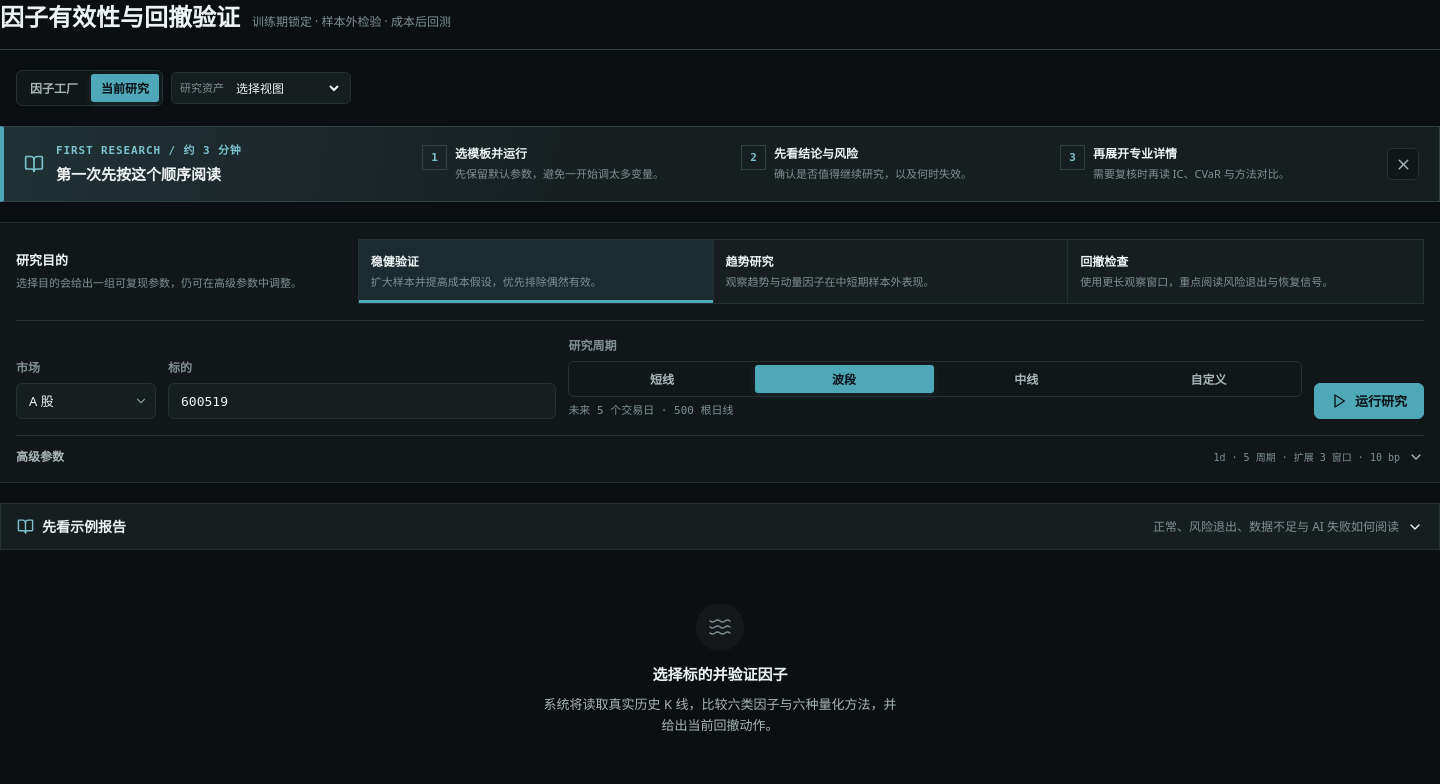
Test case: FactorResearchPage › blocks strategy experiments when no factor passes the statistical gate
The width and height of the screenshot is (1440, 784).
Step 1. Click the button "运行研究" → (1369, 401), box [1314,383,1424,419]
(page scrolled)
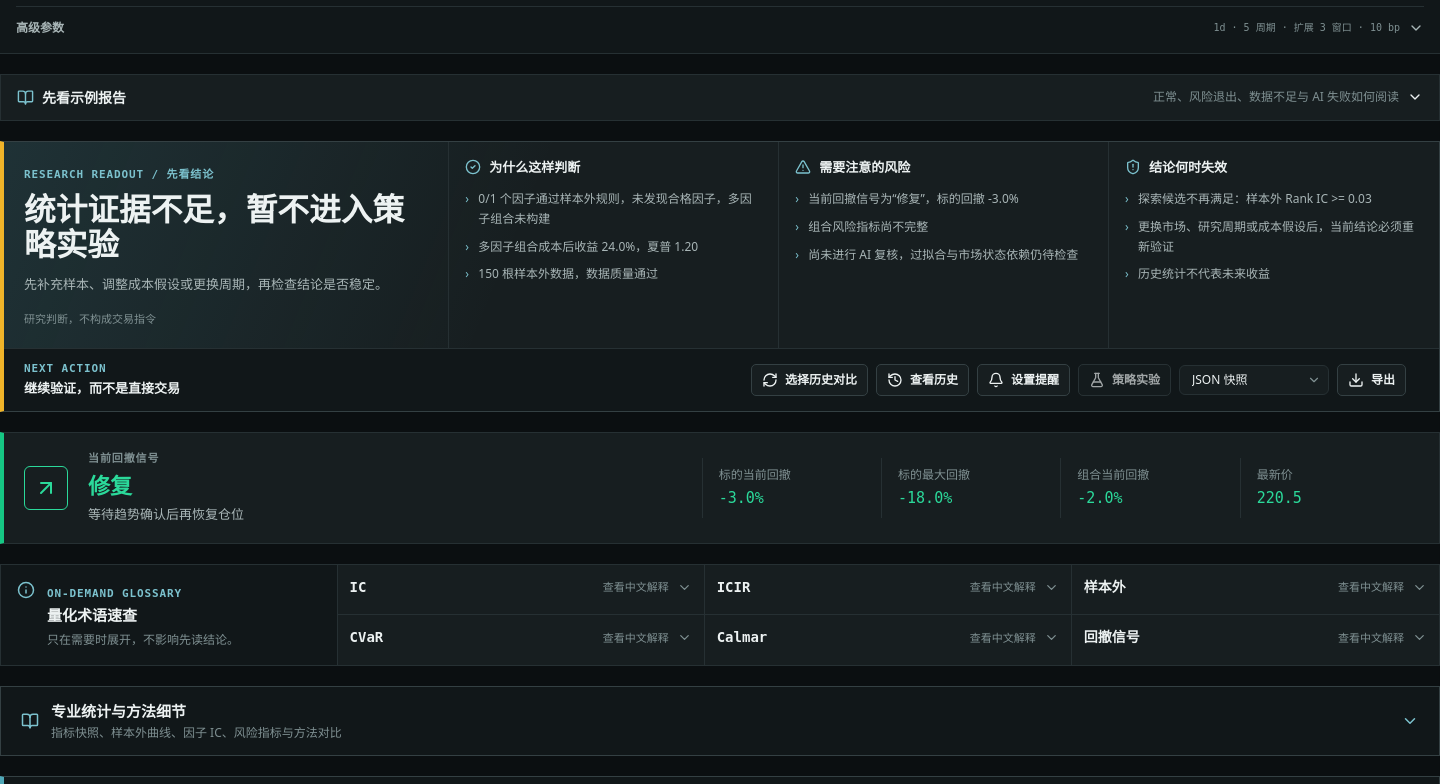
Result: the button "策略实验" is disabled at [1078,364,1171,396]
